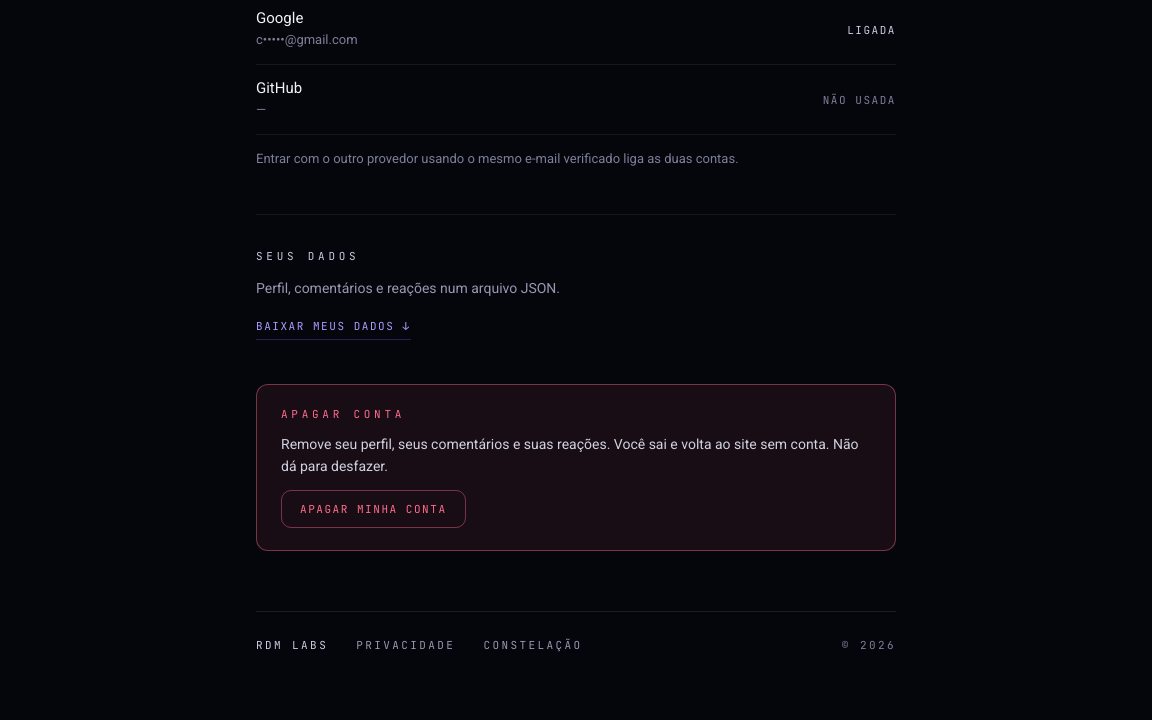
Test: Minha conta › cancelar fecha o diálogo e devolve o foco
(page scrolled)
Click the button "APAGAR MINHA CONTA".
click(373, 509)  # box [281,490,466,528]
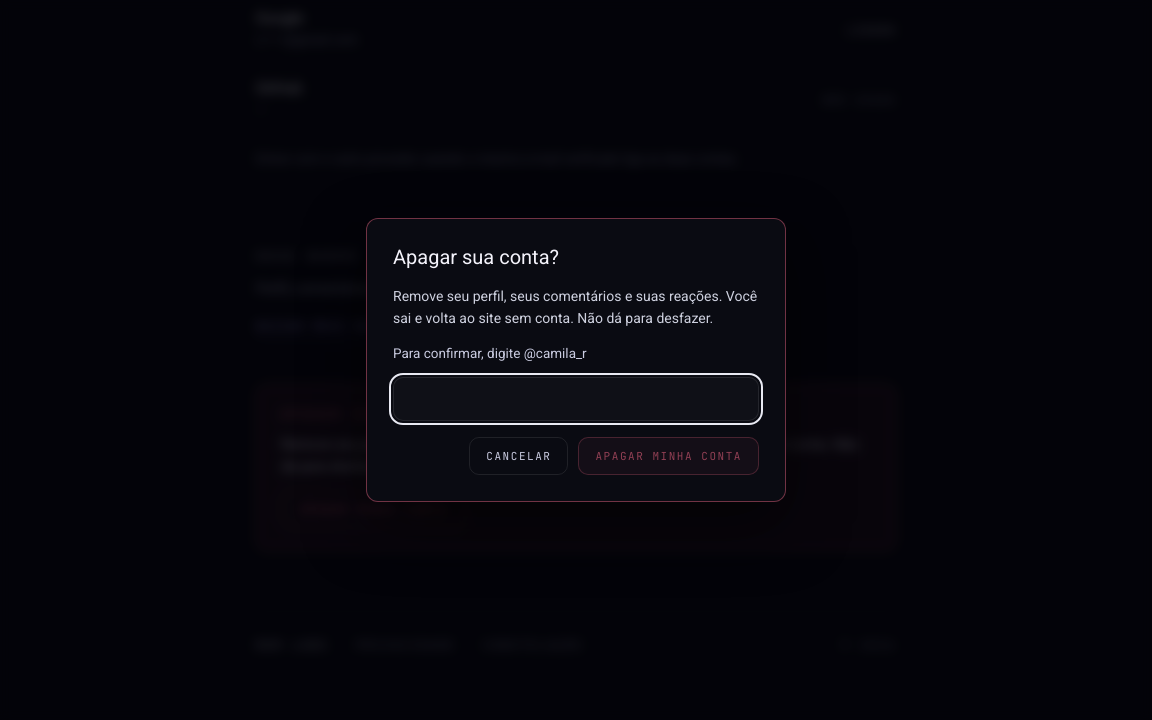
Click the button "CANCELAR".
click(519, 456)  # box [469,437,568,475]
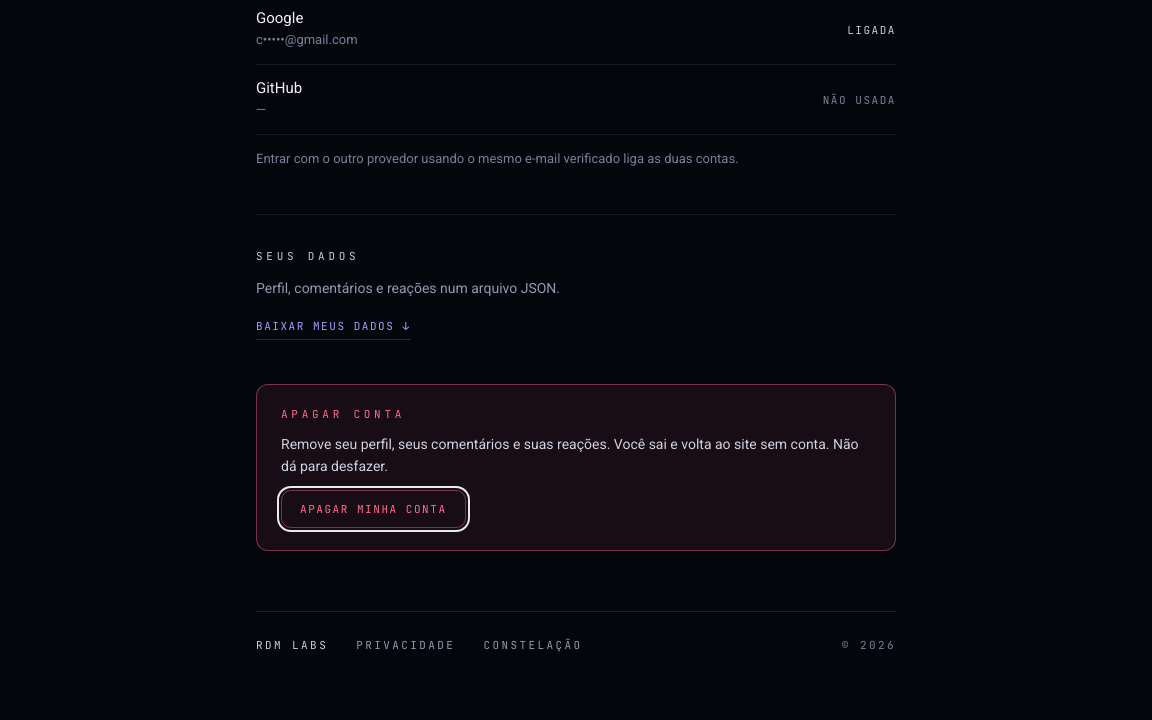
Check: the dialog is gone
